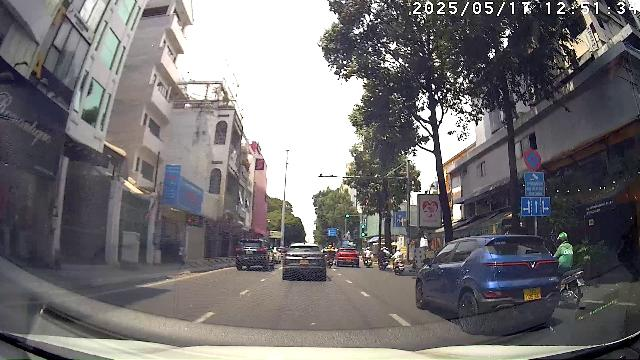130-cam-dung-va-do-xe: (523, 148, 542, 170)
